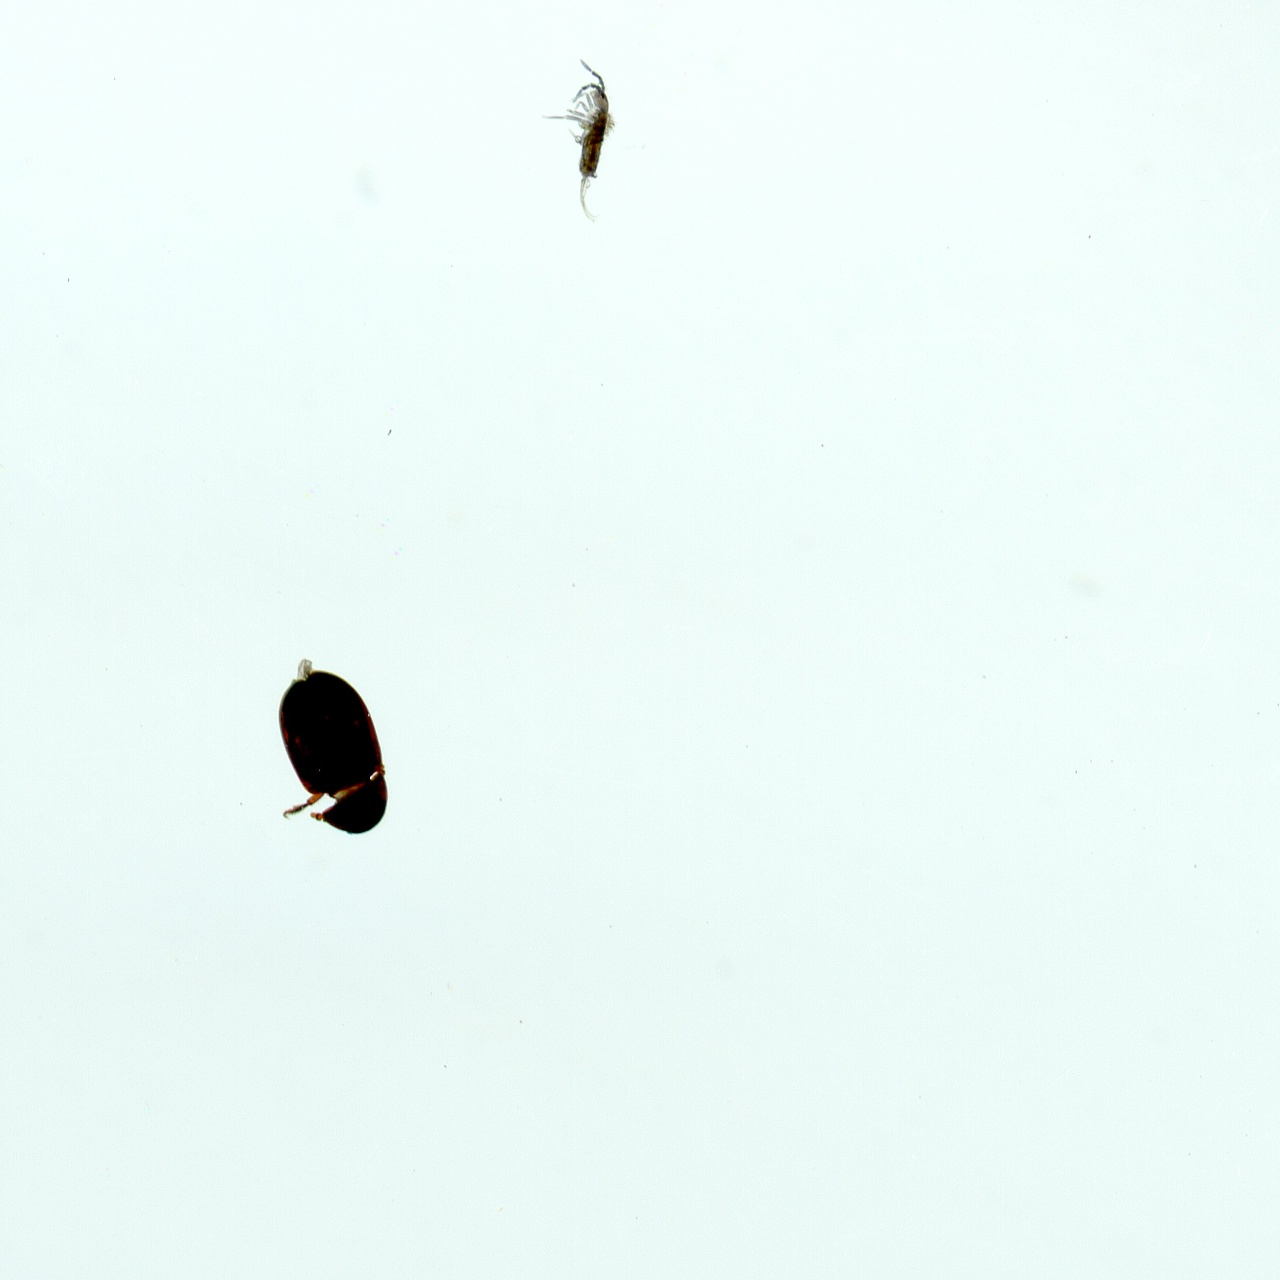arthropod: (272, 661, 399, 844), (556, 54, 624, 224)
